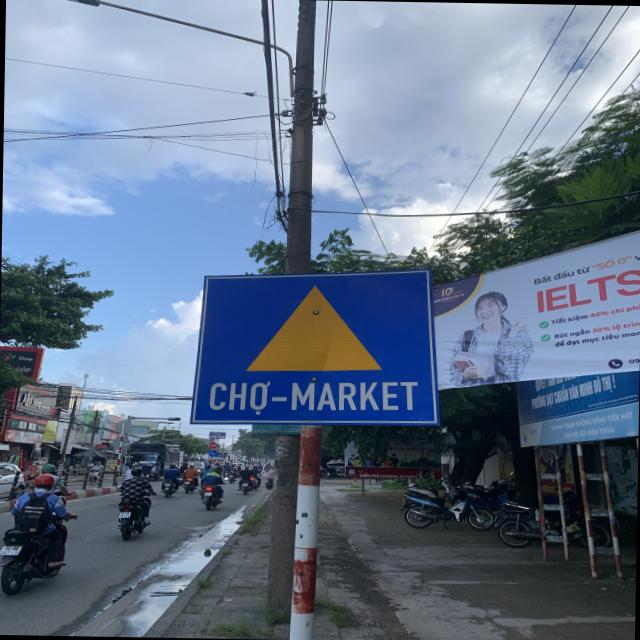Cho_Quay_Xe: (194, 274, 436, 427)
